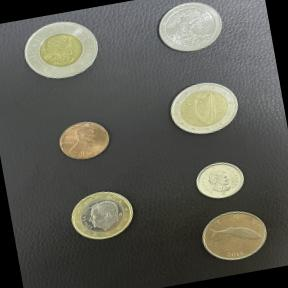coin: (13, 11, 109, 92), (160, 72, 245, 144), (62, 180, 142, 250), (194, 204, 274, 268), (149, 0, 230, 59), (52, 115, 116, 167), (190, 155, 250, 205)
